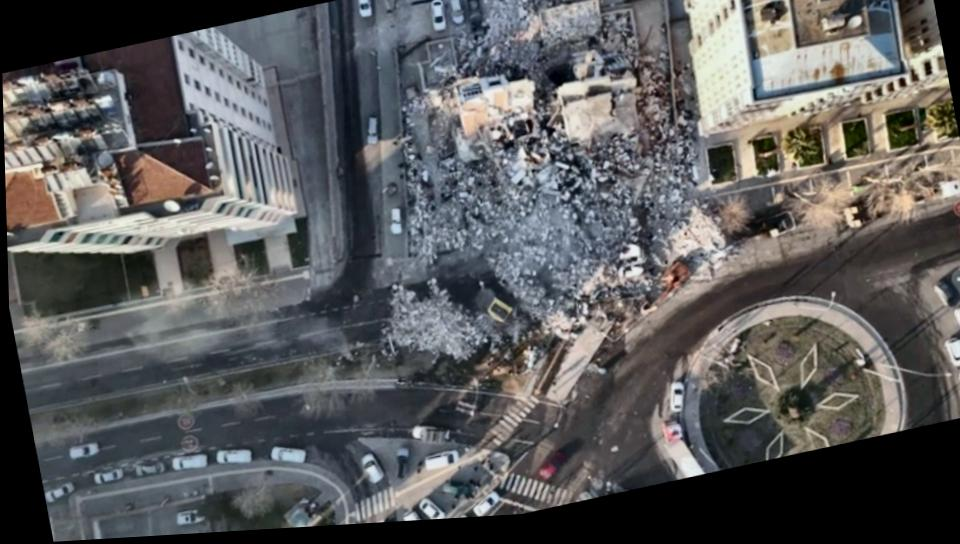kapali: (342, 253, 597, 346)
